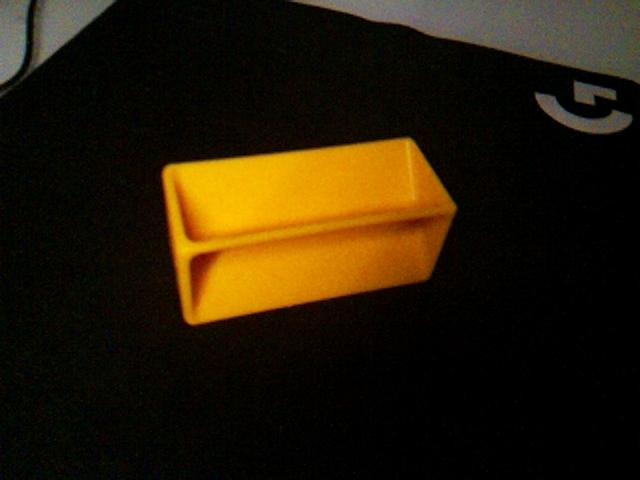yellow: (160, 135, 459, 327)
